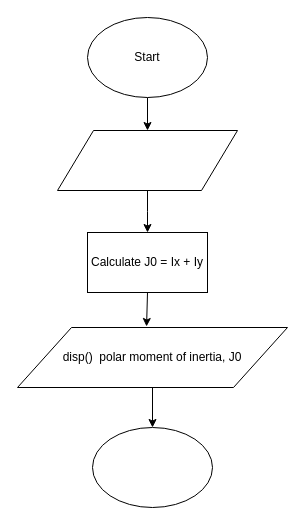
Image size: 305x525. Some labels were removed from this diagram. Here are the shapes that lost their labels. From the top down, the box of each, then its label:
(56, 130, 238, 190): input() Ix, Iy
(92, 426, 212, 508): End
